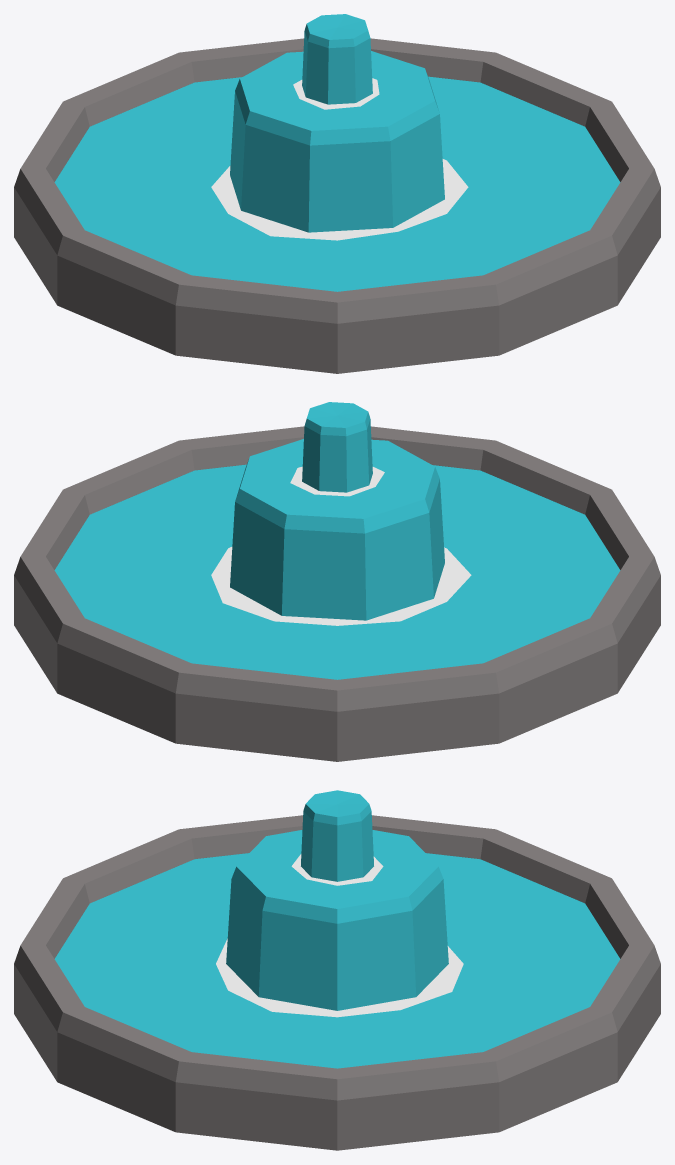
The model's file is fountain.fbx.
3 renders of one model, top to bottom at view 1: azimuth 30°, elevation 25°; view 2: azimuth 150°, elevation 25°; view 3: azimuth 270°, elevation 25°, orthographic.
Visible parts, largest first — view 1: fountain; view 2: fountain; view 3: fountain.
Boxes of the visible parts, x1=… form: fountain: x1=14, y1=14, x2=660, y2=373; fountain: x1=14, y1=402, x2=660, y2=761; fountain: x1=14, y1=790, x2=660, y2=1150.
Size of the model in its own units: 5.98 by 2.14 by 5.98.
